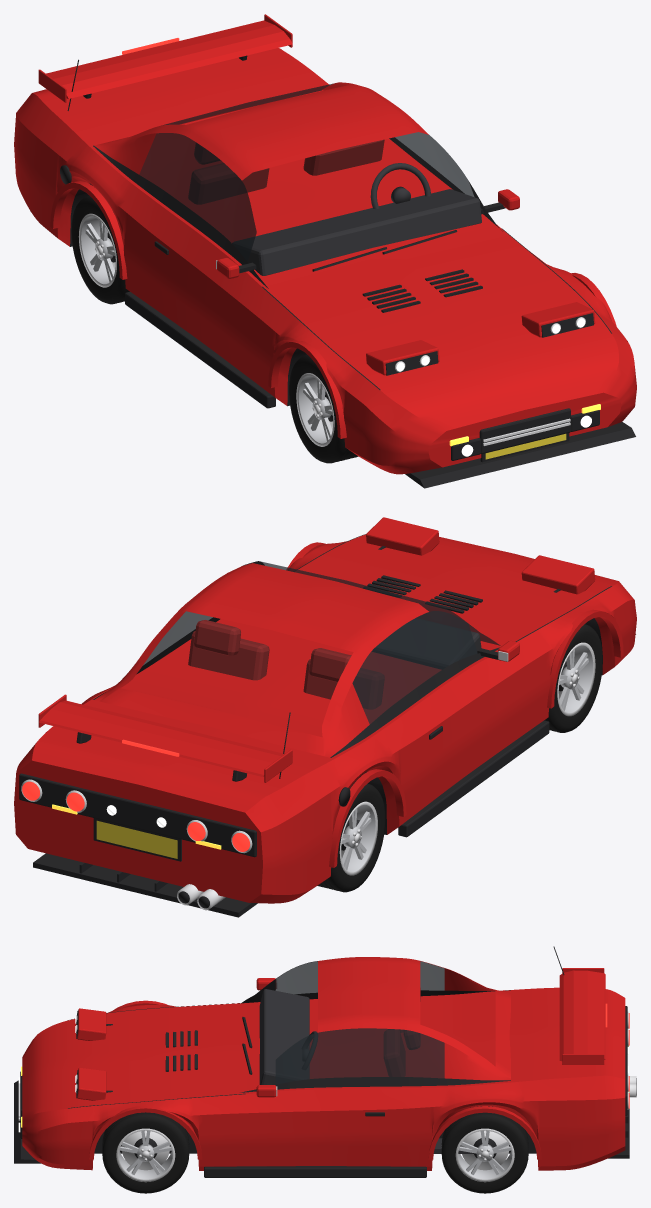
3 renders of one model, top to bottom at view 1: azimuth 30°, elevation 25°; view 2: azimuth 150°, elevation 25°; view 3: azimuth 270°, elevation 25°, orthographic. The views are drawn at different scales.
Visible parts, largest first — view 1: hood, nose, tub, cabin_roof, deck_lid, door_R, cabin_glass, dash, quarter_R, spoiler, fender_R, wheel_FR (+14 smaller); view 2: tail, cabin_roof, hood, tub, door_R, cabin_glass, quarter_R, spoiler, fender_R, tail_garnish, deck_lid, wheel_RR (+16 smaller); view 3: hood, door_L, cabin_roof, tub, cabin_glass, quarter_L, fender_L, nose, wheel_FL, wheel_RL, tail, deck_lid (+11 smaller).
Part boxes in pixels (x1,y1,x2,y2): hood: [263, 229, 611, 390]; nose: [362, 334, 636, 474]; tub: [94, 133, 501, 286]; cabin_roof: [94, 82, 428, 180]; deck_lid: [47, 49, 329, 150]; door_R: [131, 197, 261, 375]; cabin_glass: [139, 83, 474, 261]; dash: [232, 189, 481, 275]; quarter_R: [29, 106, 148, 293]; spoiler: [46, 20, 292, 98]; fender_R: [244, 287, 379, 465]; wheel_FR: [289, 354, 358, 463]; tail: [14, 732, 298, 903]; cabin_roof: [94, 563, 428, 757]; hood: [295, 534, 610, 648]; tub: [94, 619, 497, 757]; door_R: [390, 657, 519, 820]; cabin_glass: [143, 561, 500, 724]; quarter_R: [281, 724, 408, 902]; spoiler: [39, 700, 284, 776]; fender_R: [510, 587, 629, 738]; tail_garnish: [19, 773, 256, 857]; deck_lid: [47, 698, 336, 788]; wheel_RR: [317, 781, 385, 892]; hood: [67, 1003, 245, 1107]; door_L: [245, 1088, 420, 1166]; cabin_roof: [318, 957, 510, 1080]; tub: [245, 990, 504, 1093]; cabin_glass: [275, 961, 444, 1084]; quarter_L: [420, 1077, 586, 1170]; fender_L: [67, 1094, 245, 1170]; nose: [22, 1020, 67, 1168]; wheel_FL: [102, 1112, 189, 1193]; wheel_RL: [441, 1106, 528, 1193]; tail: [586, 989, 625, 1166]; deck_lid: [504, 987, 586, 1082].
Size of the model in its own units: 1.88 by 1.25 by 4.44.
